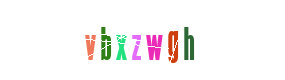B: (88, 0, 168, 80)
G: (109, 0, 189, 80)
H: (133, 0, 213, 80)
V: (64, 0, 144, 80)
W: (108, 0, 188, 80)
X: (99, 0, 179, 80)
Z: (102, 0, 182, 80)
